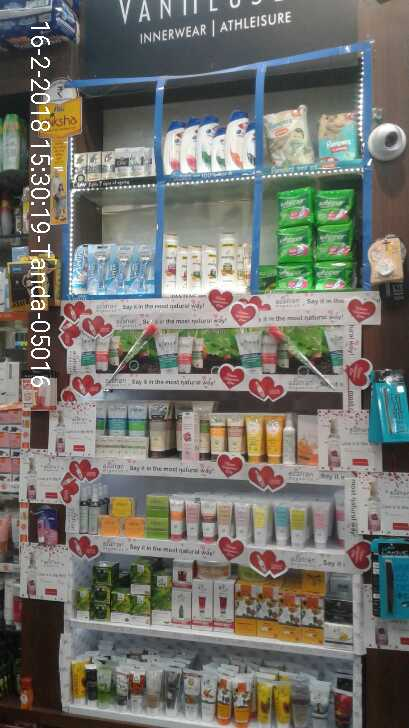venus: (90, 244, 114, 295), (134, 244, 156, 292), (72, 241, 90, 295), (114, 244, 134, 292)
